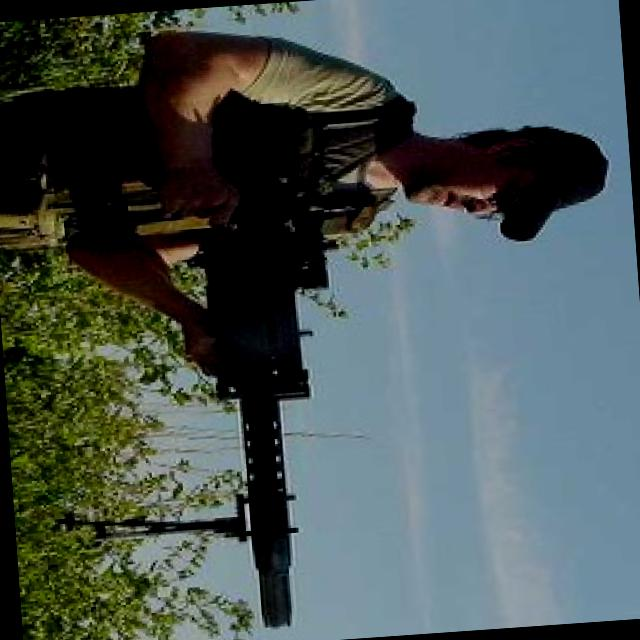long weapon: (98, 55, 387, 639)
